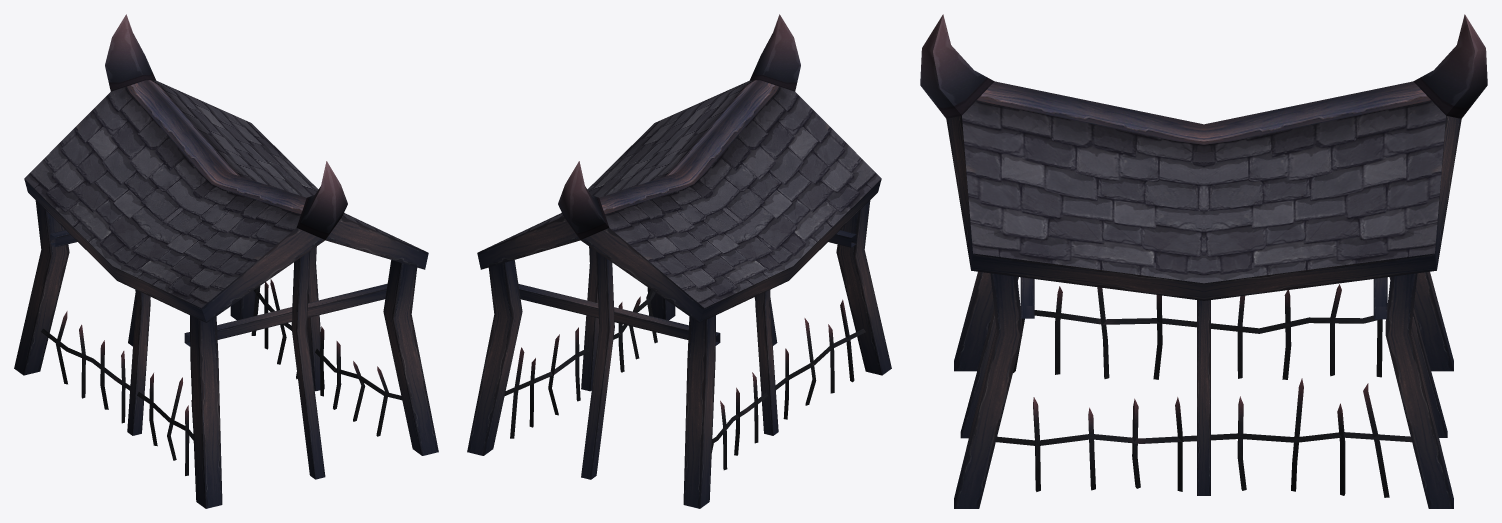
Rendered from Roof_A.fbx.
The picture shows the model from 3 angles, left to right: view 1: azimuth 30°, elevation 25°; view 2: azimuth 150°, elevation 25°; view 3: azimuth 270°, elevation 25°; orthographic projection. The views are drawn at different scales.
Parts seen in each view (by area): view 1: Roof_A; view 2: Roof_A; view 3: Roof_A.
Boxes of the visible parts, box(x1,y1,x2,y2) form: Roof_A: box(14, 14, 438, 508); Roof_A: box(467, 14, 891, 508); Roof_A: box(920, 14, 1487, 508).
Size of the model in its own units: 236 by 312 by 382.
Materials: 1 (1 with a texture image).
